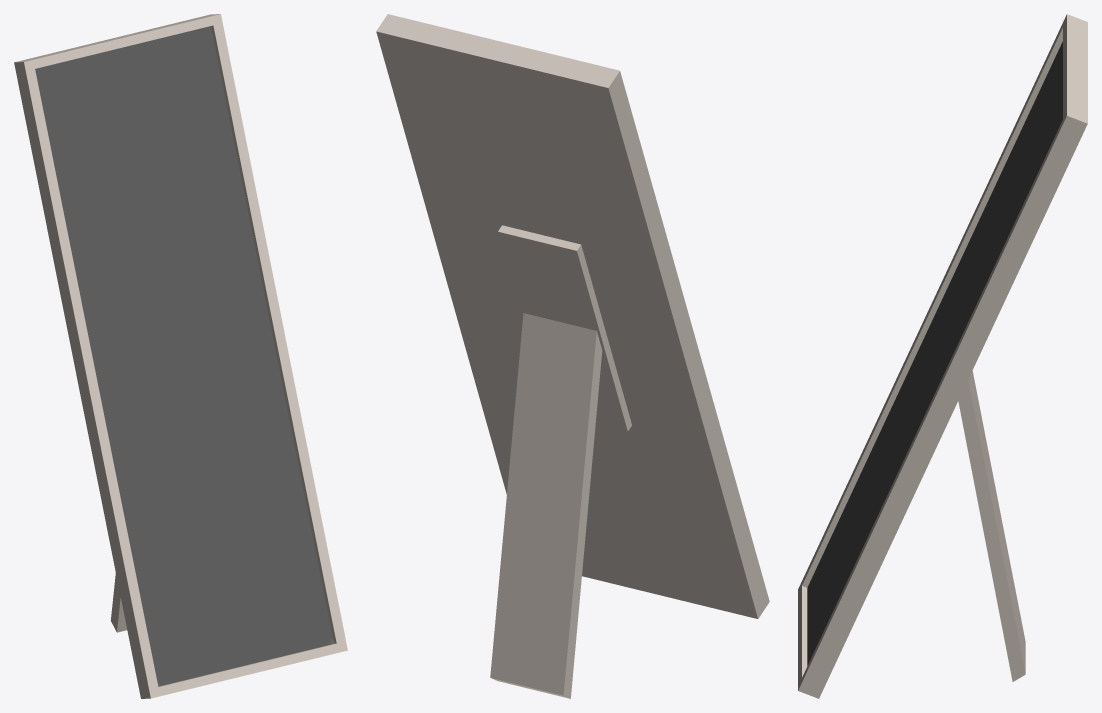
File: Cheval_glass.fbx
3 views of the same model, side by side, from view 1: azimuth 30°, elevation 25°; view 2: azimuth 150°, elevation 25°; view 3: azimuth 270°, elevation 25° (orthographic). The views are drawn at different scales.
Visible parts, largest first — view 1: Cube.382; view 2: Cube.382; view 3: Cube.382.
Part boxes in pixels (x1,y1,x2,y2): Cube.382: [14, 14, 347, 698]; Cube.382: [376, 14, 769, 698]; Cube.382: [798, 14, 1087, 698].
Size of the model in its own units: 55.89 by 154 by 67.25.
